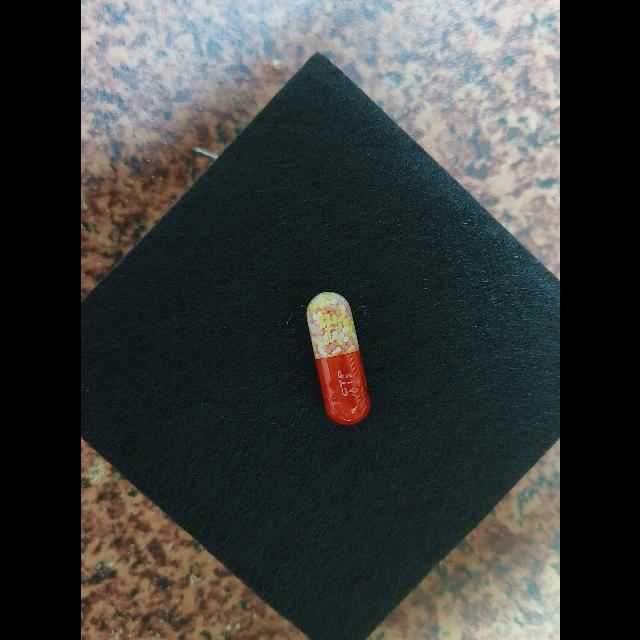Intact Capsule: (306, 292, 370, 425)
